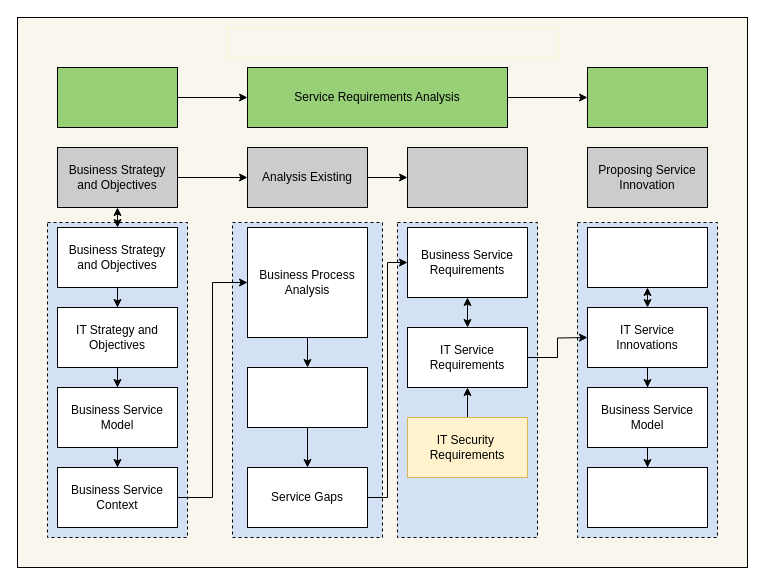
Image size: 765x585. Some labels were removed from this diagram. Each missing label, with the centre of its shape:
"Business Service Catalogue" belongs at [647,497].
"Business Service Innovation" belongs at [647,257].
"Service Innovation" belongs at [647,97].
"Service Sistem Analysis" belongs at [307,397].
"Service Strategy and Objectives" belongs at [117,97].
"STAGE 1 : OBJECTIVE AND REQUIREMENTS" belongs at [392,42].
"Understanding Service Requirements" belongs at [467,177].
